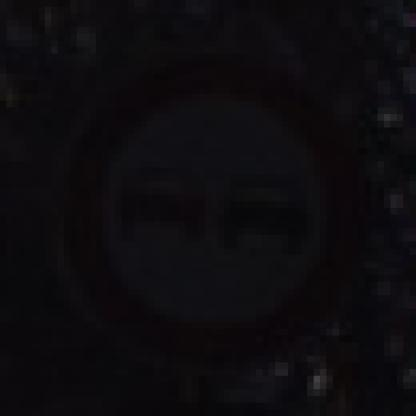No Overtaking: (39, 35, 385, 384)
